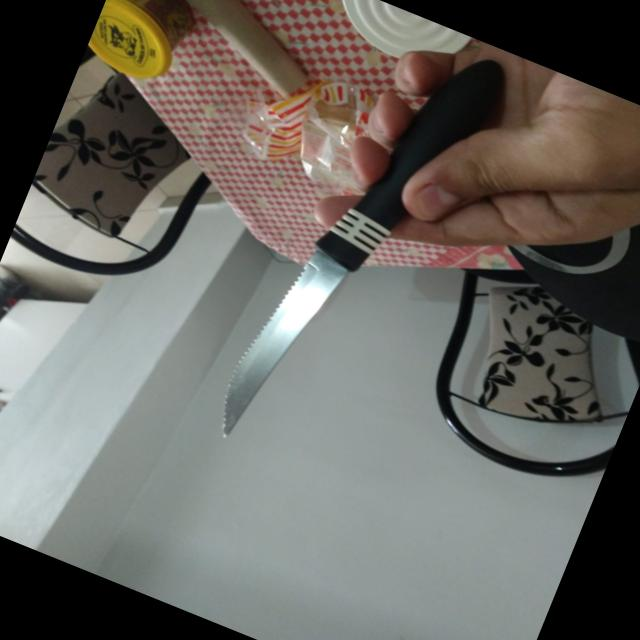knife: (189, 13, 529, 500)
